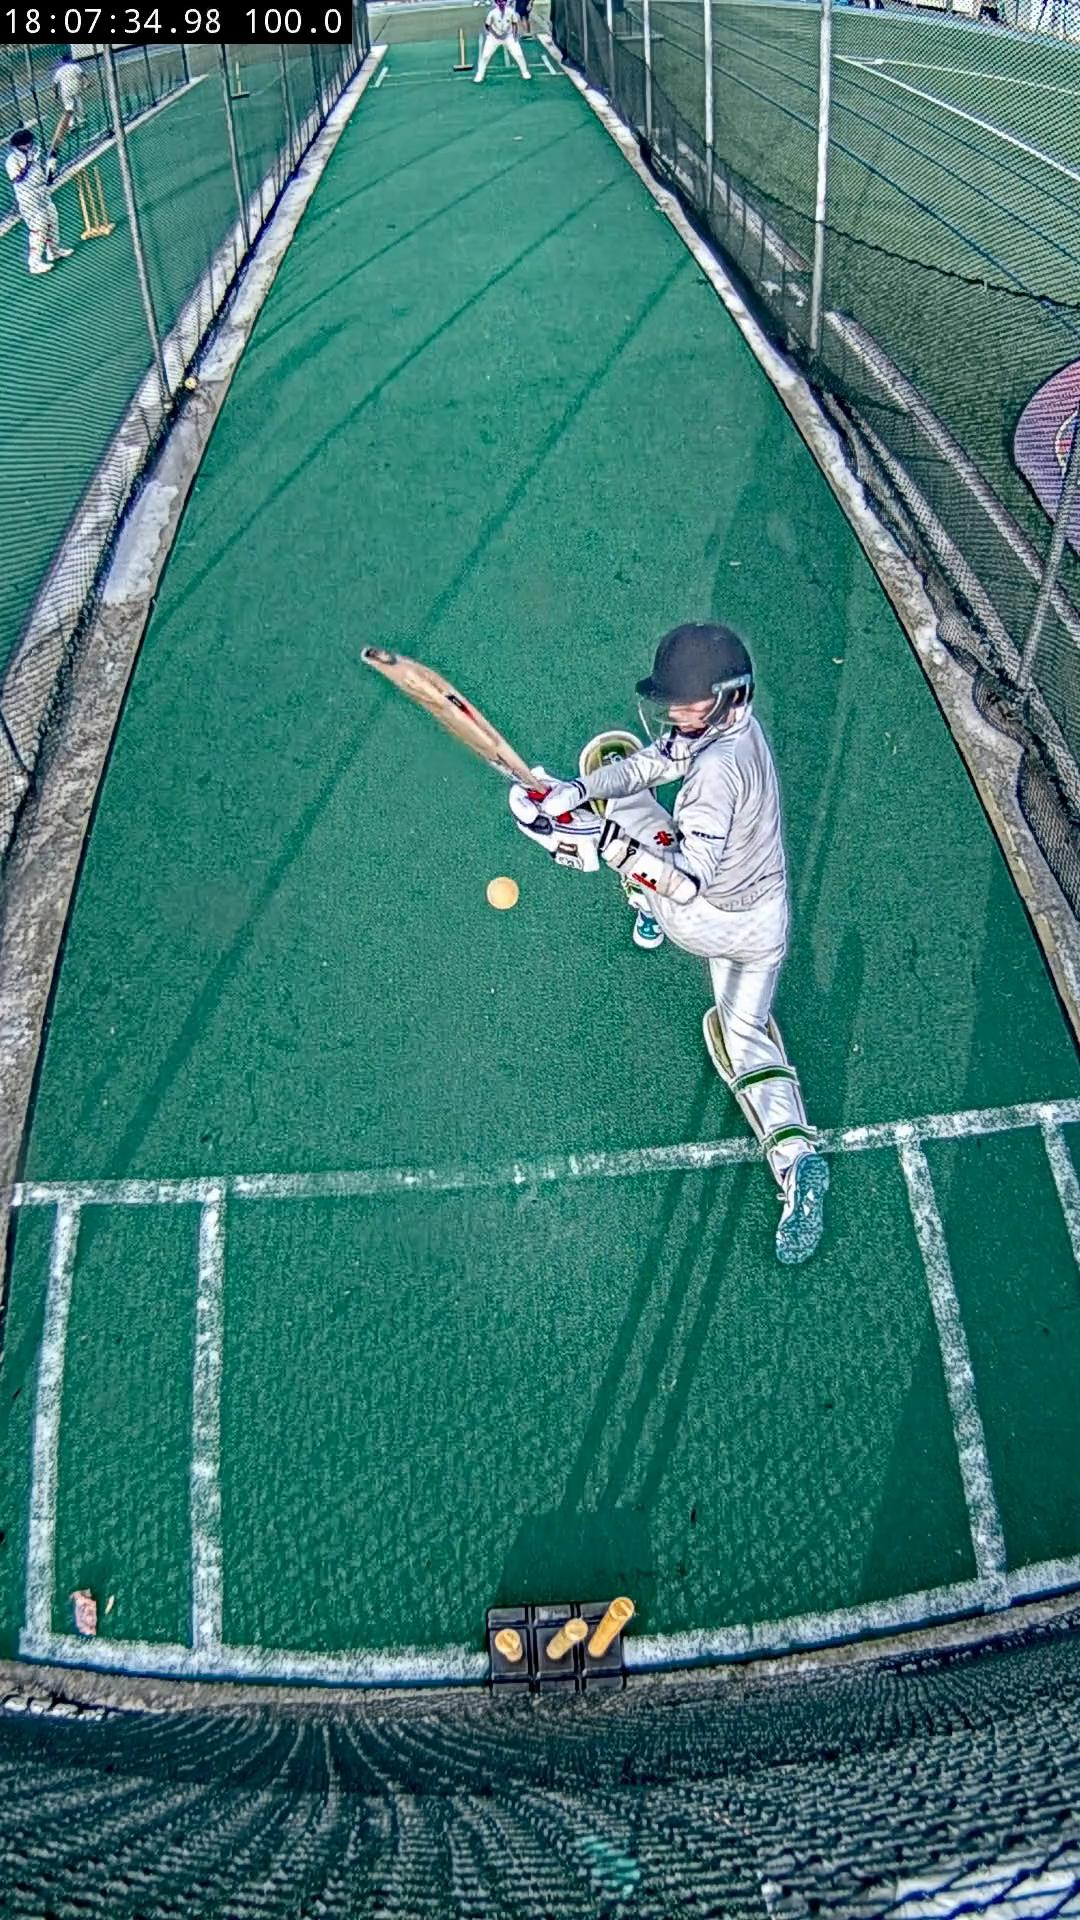ball: (488, 877, 517, 911)
bat: (360, 645, 541, 790)
gloves: (510, 781, 600, 870)
helmet: (637, 622, 754, 705)
pads: (578, 732, 641, 777)
stumps: (488, 1597, 634, 1692)
